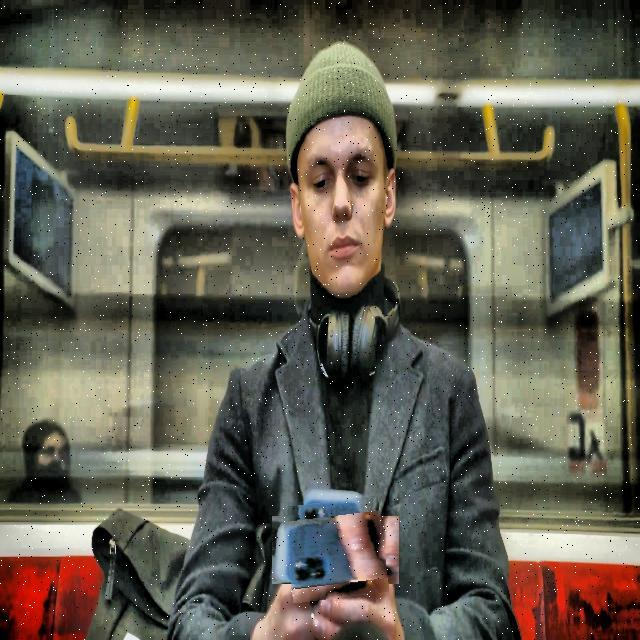Phone: (284, 498, 387, 601)
